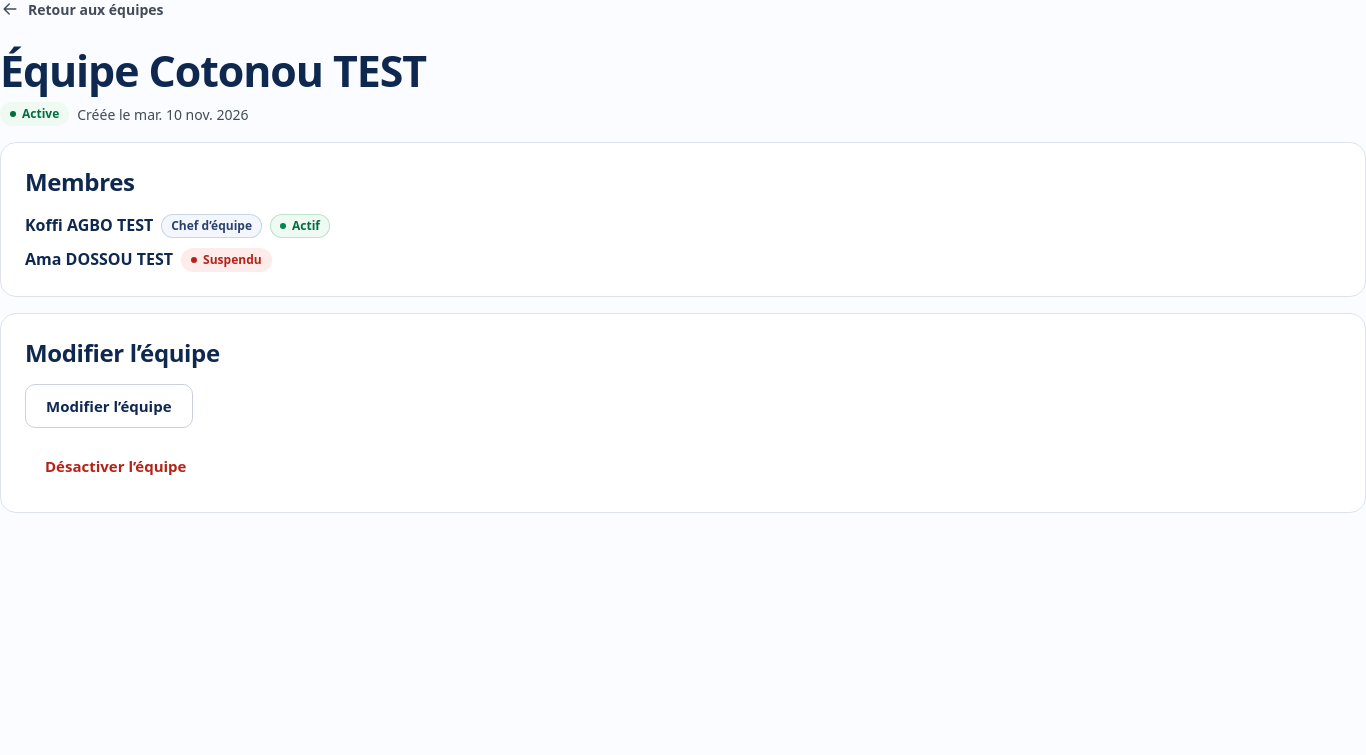
it: équipes › fiche : membres et chef, modification des seuls champs changés, désactivation confirmée
The image size is (1366, 755).
Expected: the heading "Équipe Cotonou TEST" is shown, [0, 41, 426, 100]
Expected: the text "Chef d’équipe" is shown, [161, 214, 262, 238]
Click the button "Modifier l’équipe". click: (109, 406)
box: [25, 384, 192, 428]
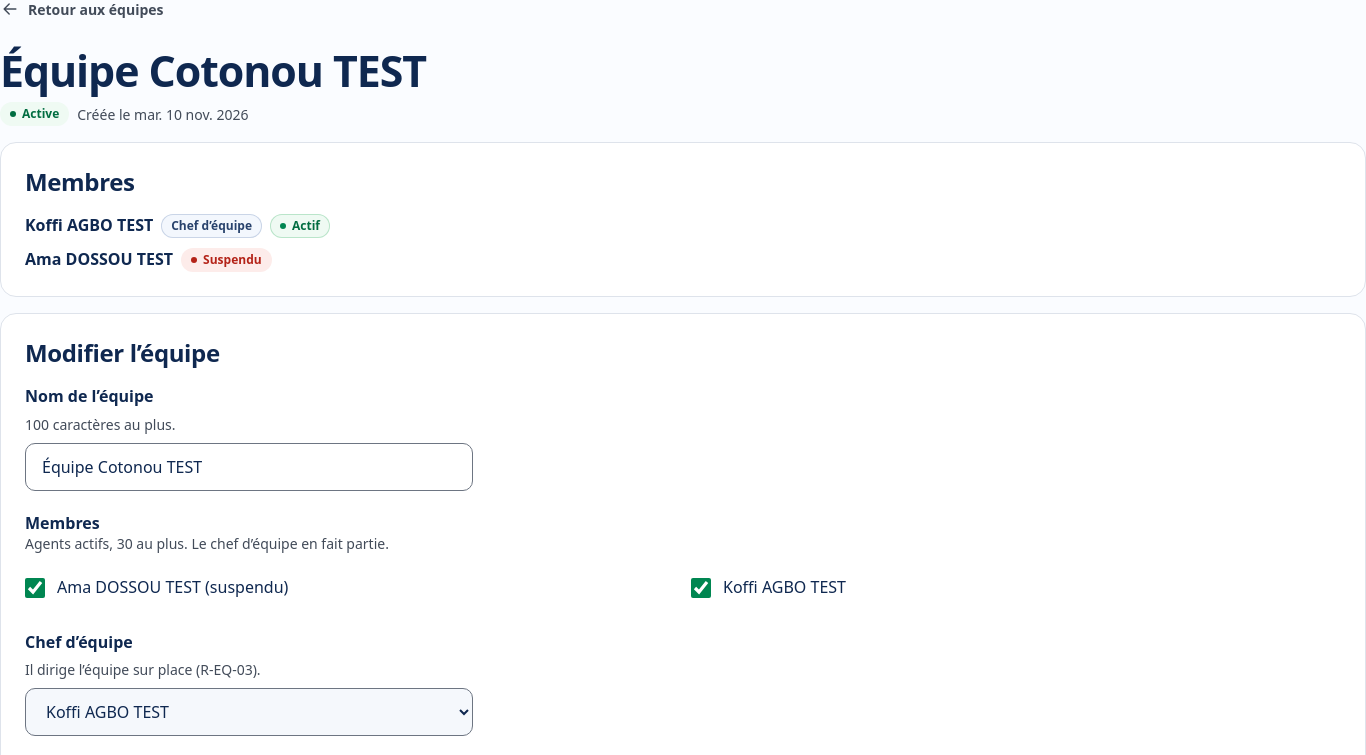
Replace the text in the field labelled "Nom de l’équipe" with "Équipe Akpakpa TEST". click: (249, 467)
box: [25, 443, 473, 491]
(page scrolled)
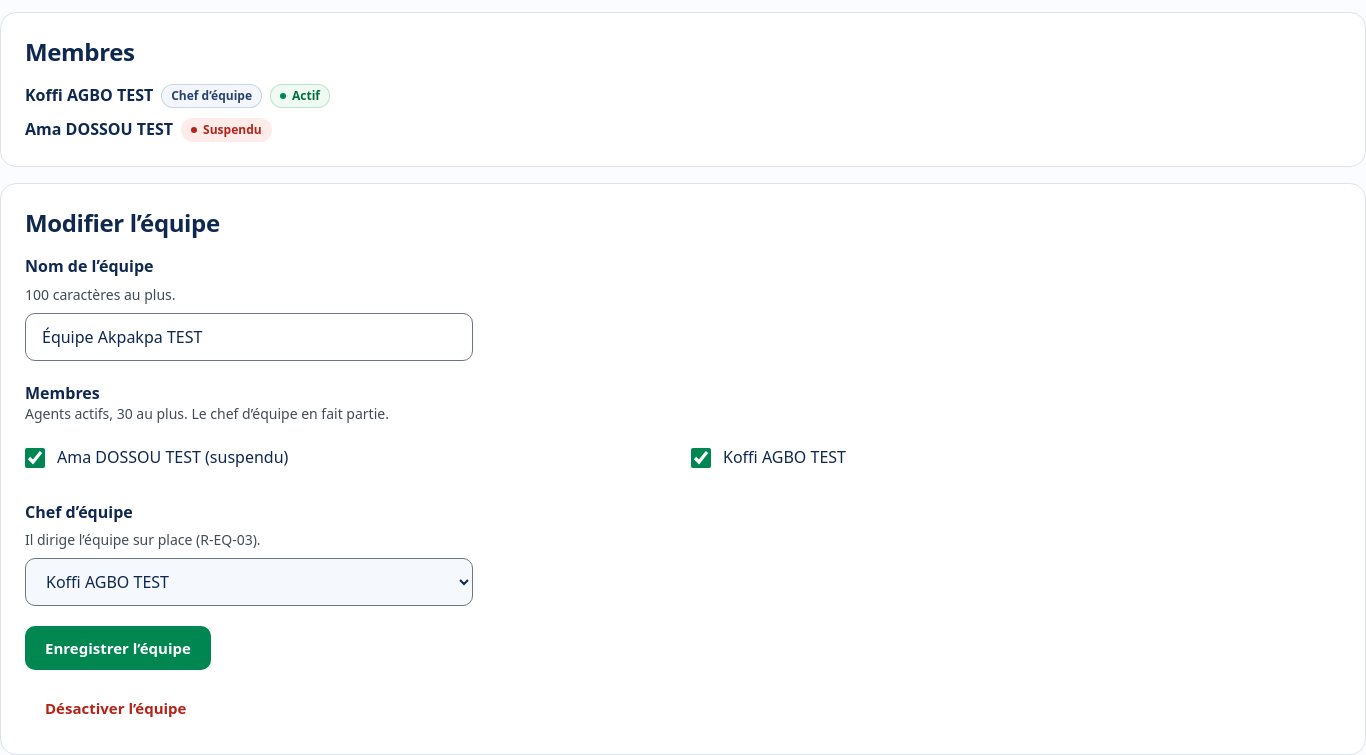
Now the checkbox labelled "Ama DOSSOU TEST (suspendu)" is checked, box [25, 448, 45, 468]
Click the button "Enregistrer l’équipe". click: (118, 648)
box: [25, 626, 211, 670]
(page scrolled)
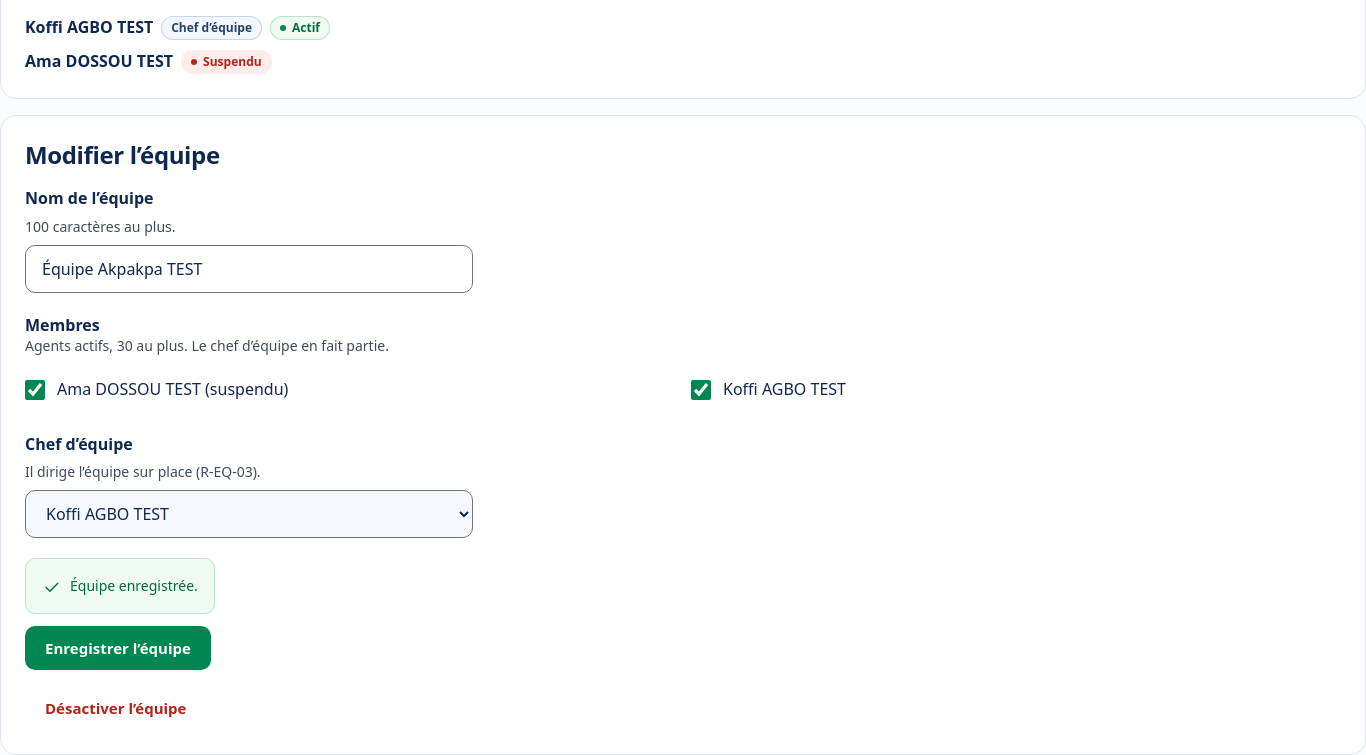
Now the text "Équipe enregistrée." is shown, box [70, 575, 198, 596]
Click the button "Désactiver l’équipe". click: (116, 708)
box: [25, 686, 206, 730]
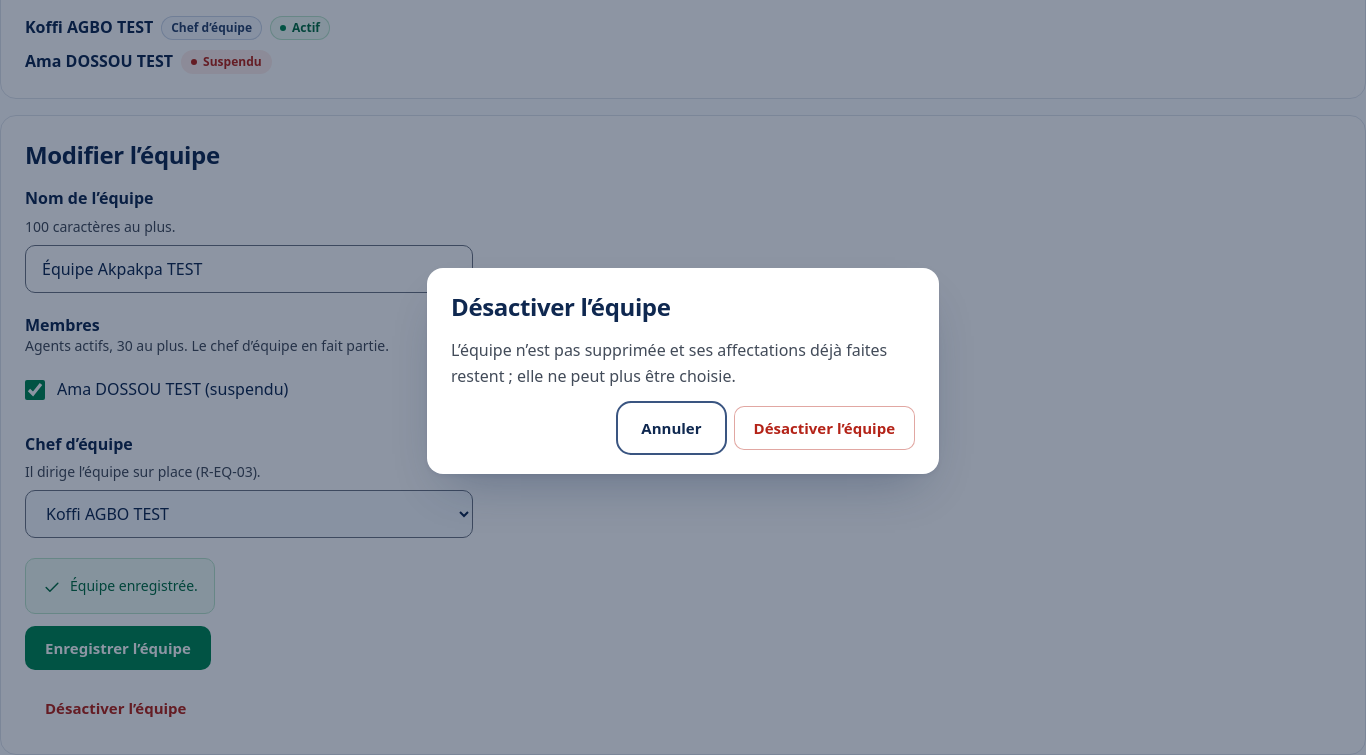
Click the 1st button "Désactiver l’équipe". click: (824, 428)
box: [734, 406, 915, 450]
(page scrolled)
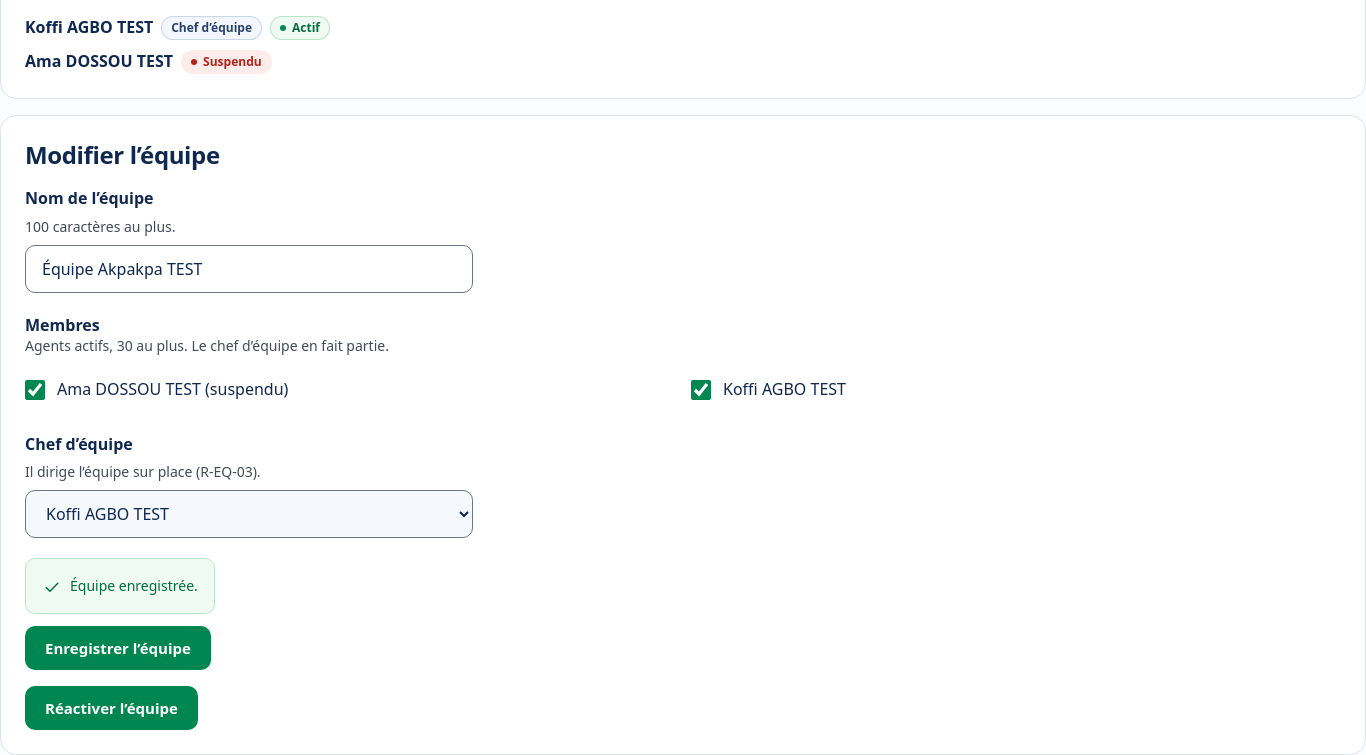
Now the button "Réactiver l’équipe" is shown, box [25, 686, 198, 730]
